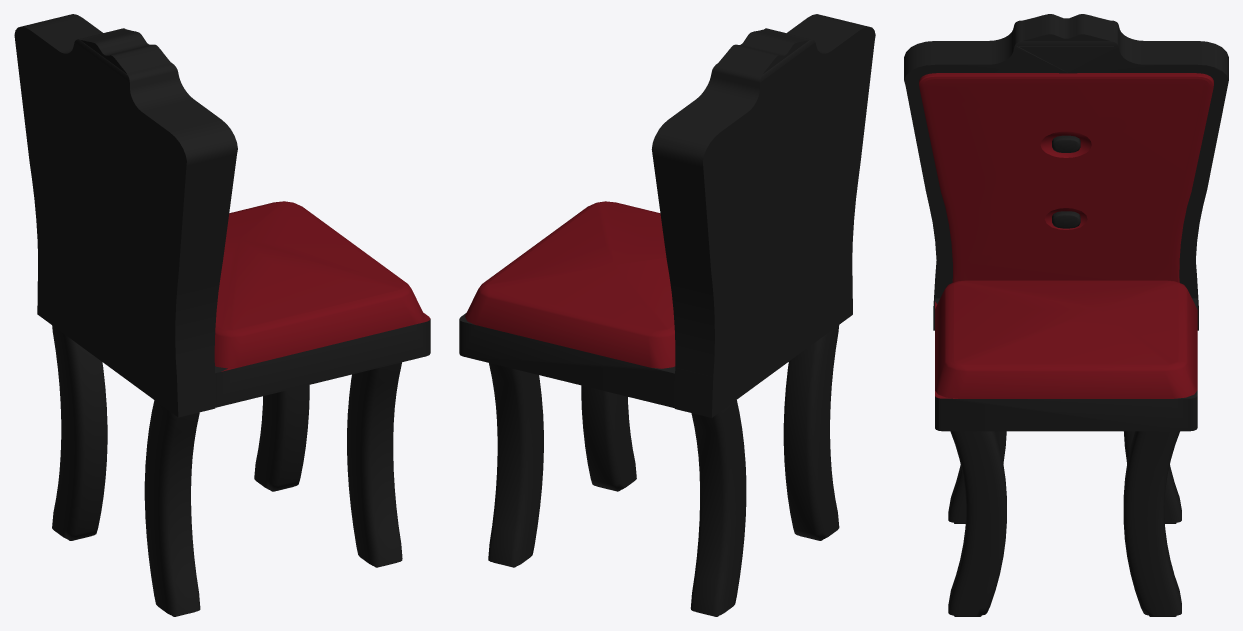
File: Silla.fbx
3 views of the same model, side by side, from view 1: azimuth 30°, elevation 25°; view 2: azimuth 150°, elevation 25°; view 3: azimuth 270°, elevation 25° (orthographic). The views are drawn at different scales.
Parts seen in each view (by area): view 1: chair; view 2: chair; view 3: chair.
Part boxes in pixels (left/top/right/bottom): chair: left=14, top=14, right=430, bottom=616; chair: left=459, top=14, right=875, bottom=616; chair: left=904, top=14, right=1228, bottom=616.
Bounding box in the file's own units: 44.84 × 85.56 × 50.87.
